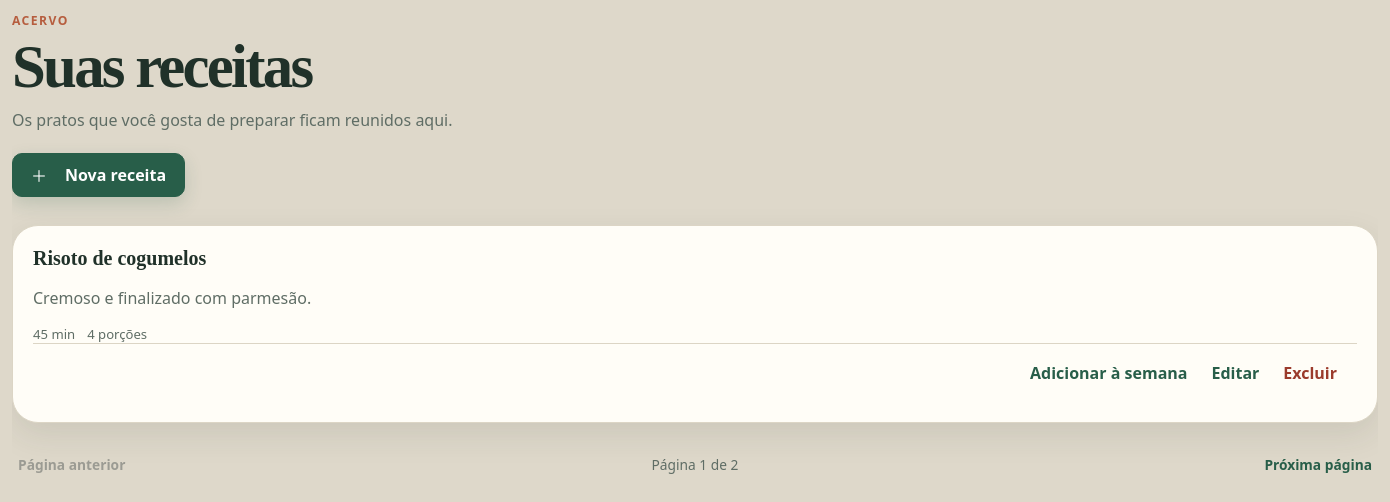
RecipesPage › navigates through paged recipes
Expected: the heading "Risoto de cogumelos" is shown, [33,246,206,270]
Click the button "Próxima página". click: (1318, 464)
box: [1258,443,1378,485]
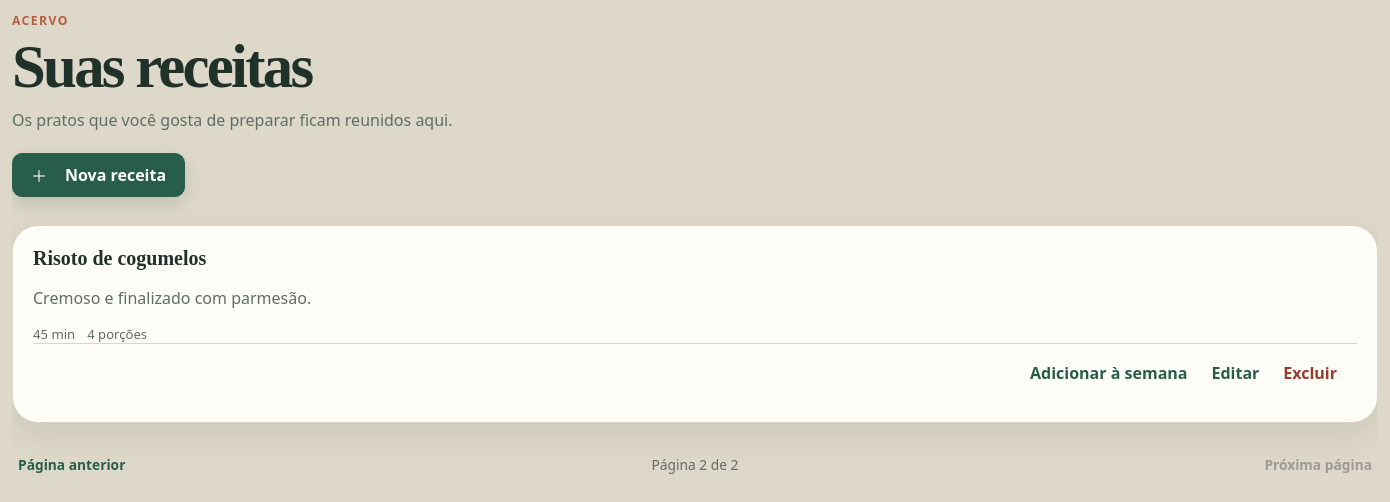
Expected: the text "Página 2 de 2" is shown, [651,454,738,474]
